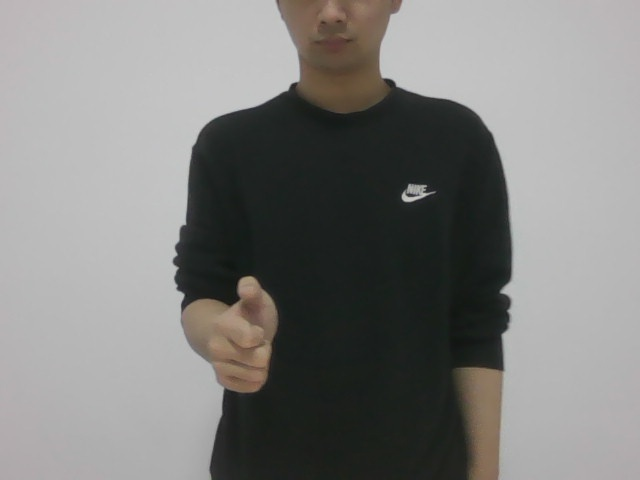thank you: (202, 271, 289, 398)
